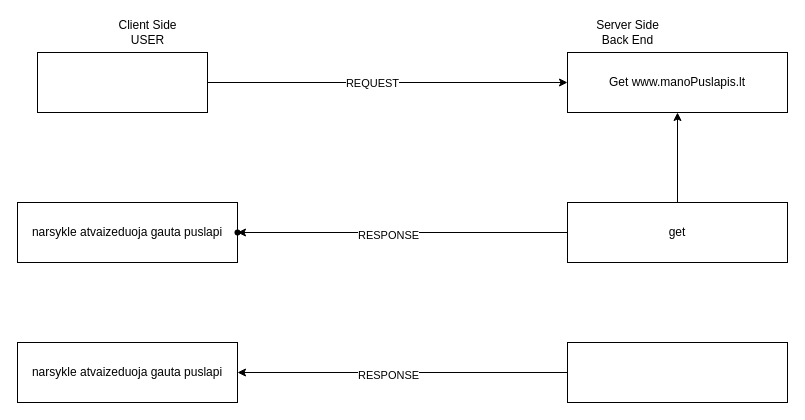
Some shapes in this 805 by 420 pixel diagram are drawn without their labels. Here are the shapes that lost their labels. From the top down, the centre of each, then its label:
At point (122, 82): "www.manopuslpis.lt".
At point (677, 372): "HOME PAGE".
